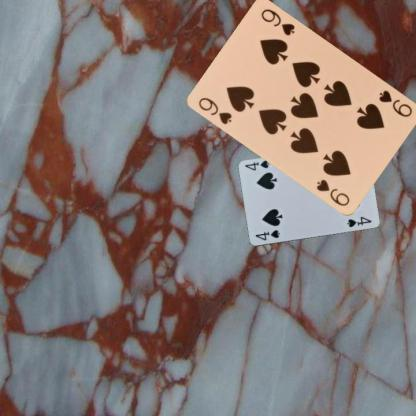4s: (252, 228, 281, 242)
9s: (196, 94, 234, 126), (376, 88, 414, 118)
